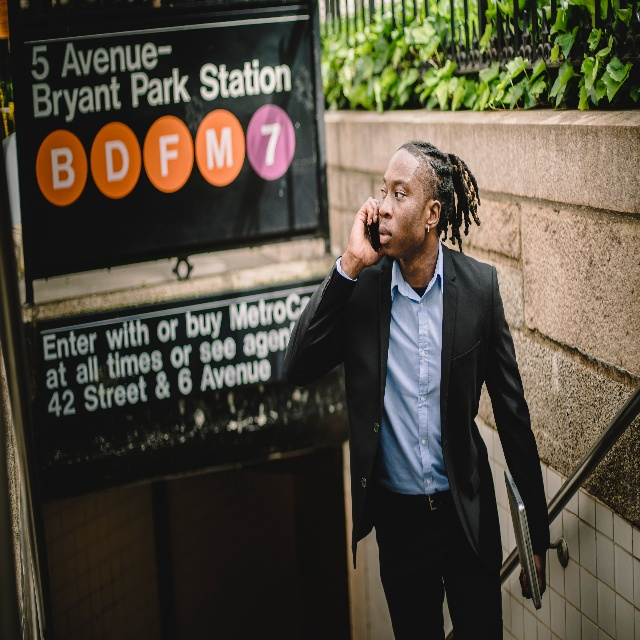Sin_guantes: (348, 196, 383, 265), (519, 555, 546, 597)
